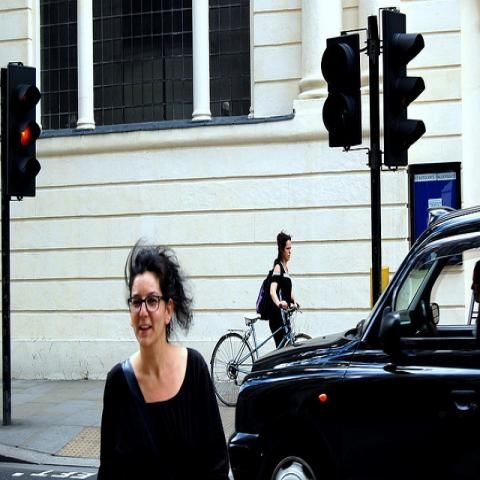car: (227, 204, 479, 479)
